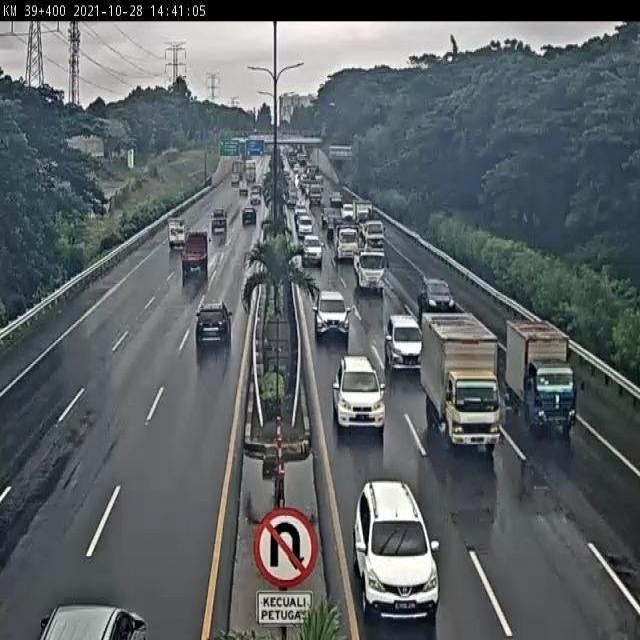car: (353, 480, 440, 620), (332, 356, 385, 432), (383, 313, 428, 375), (312, 290, 352, 342), (193, 300, 232, 352), (415, 276, 456, 312)
mid truck: (179, 230, 211, 274)
truck-m-: (420, 310, 502, 450), (353, 247, 386, 294)
truck-s-: (506, 319, 575, 433)
